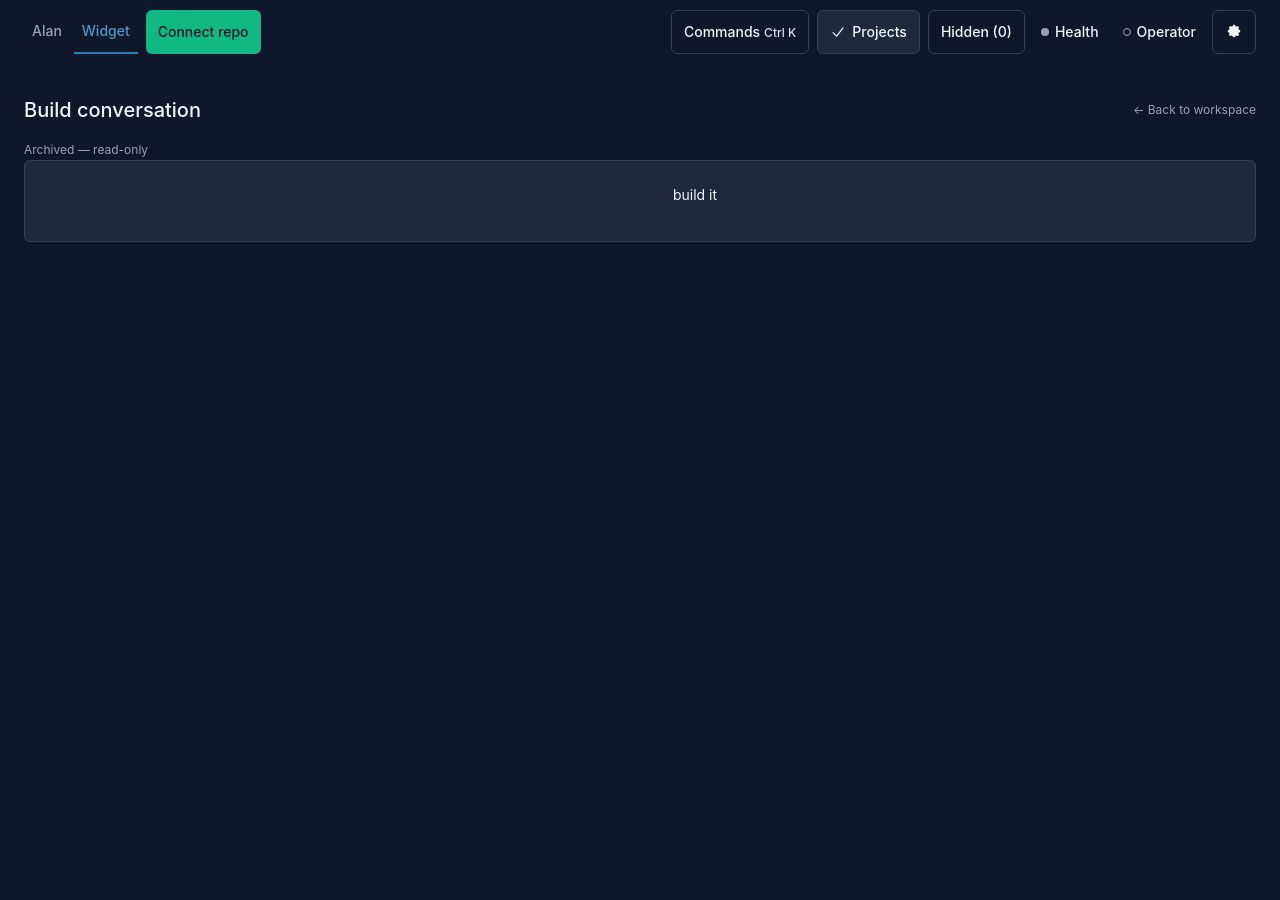
Scenario: App shell — Build/Explore shortcuts act on the selected repository › the palette on a workspace's preparation-chat page offers Build in that workspace's repository
The width and height of the screenshot is (1280, 900).
Check: the heading "Build conversation" is shown, box [24,96,201,124]
Click the button with test id "command-palette-trigger" at (740, 32), box [671,10,809,54]
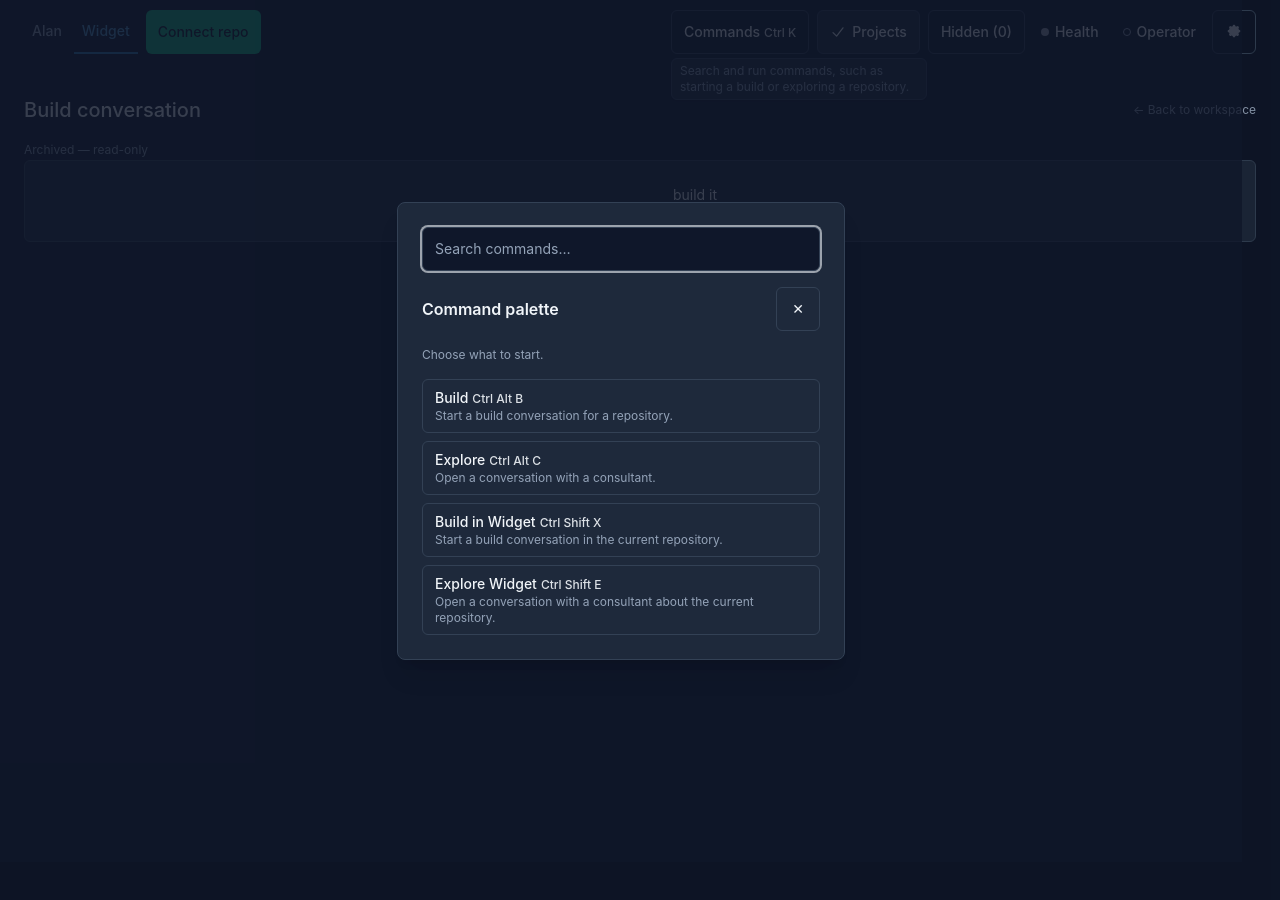
Check: the button with test id "palette-command-build-scoped" shows "Build in Widget", box [422,503,820,557]
